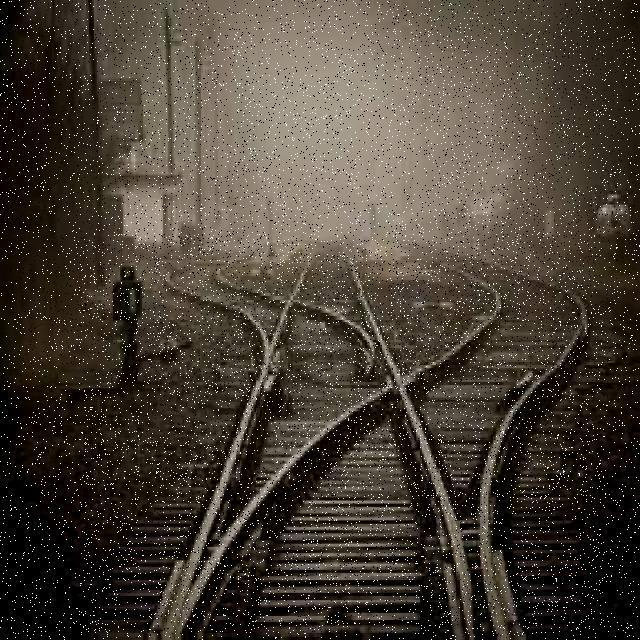rail: (84, 235, 603, 634)
